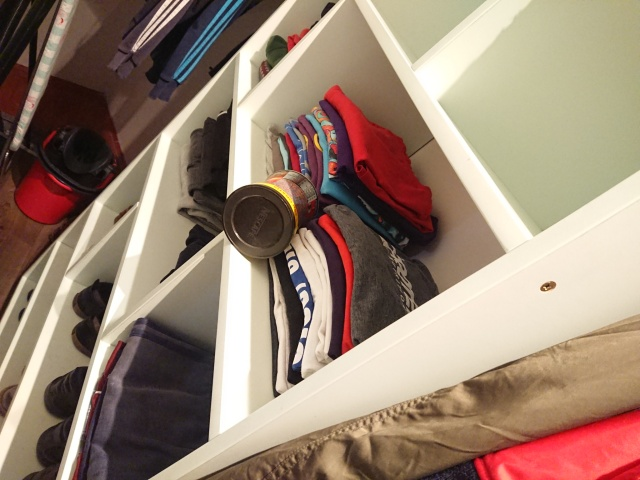Nescafe Classic 225g: (219, 167, 322, 262)
